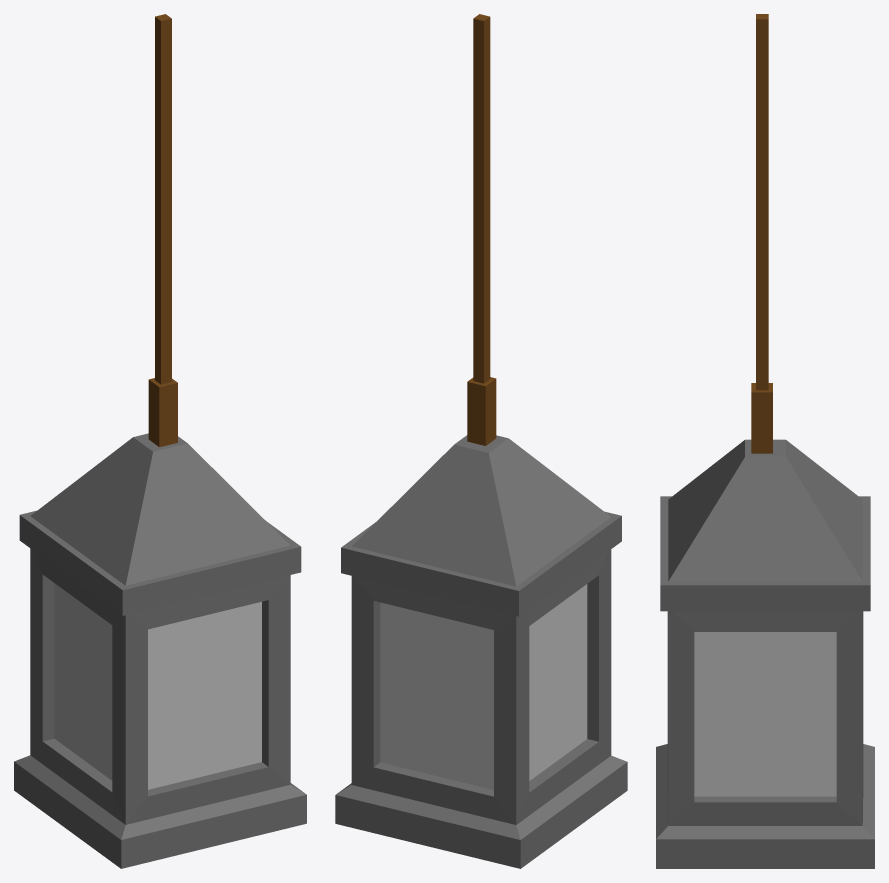
File: Beach_House_Lantern_01.fbx
3 views of the same model, side by side, from view 1: azimuth 30°, elevation 25°; view 2: azimuth 150°, elevation 25°; view 3: azimuth 270°, elevation 25° (orthographic). The views are drawn at different scales.
Parts seen in each view (by area): view 1: Beach_House_Lantern_01; view 2: Beach_House_Lantern_01; view 3: Beach_House_Lantern_01.
Boxes of the visible parts, left/top/right/bottom form: Beach_House_Lantern_01: left=14, top=14, right=306, bottom=868; Beach_House_Lantern_01: left=335, top=14, right=627, bottom=868; Beach_House_Lantern_01: left=656, top=14, right=874, bottom=868.
Bounding box in the file's own units: 0.6071 × 2.47 × 0.6071.
